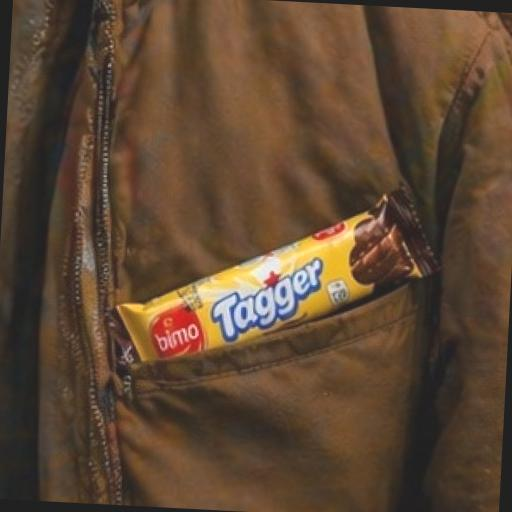tagger: (85, 152, 496, 422)
